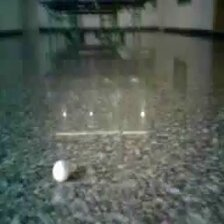w: (52, 159, 70, 182)
